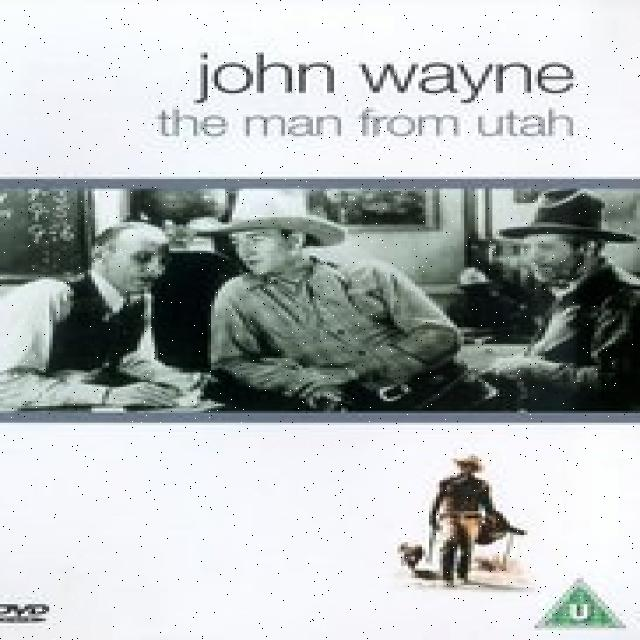movie-judul: (156, 45, 586, 143)
picture: (0, 176, 640, 422), (398, 453, 538, 596)
